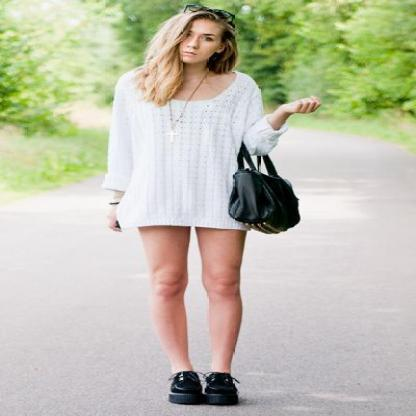bag: (230, 142, 299, 233)
jacket: (101, 70, 287, 241)
shoe: (170, 372, 238, 405)
